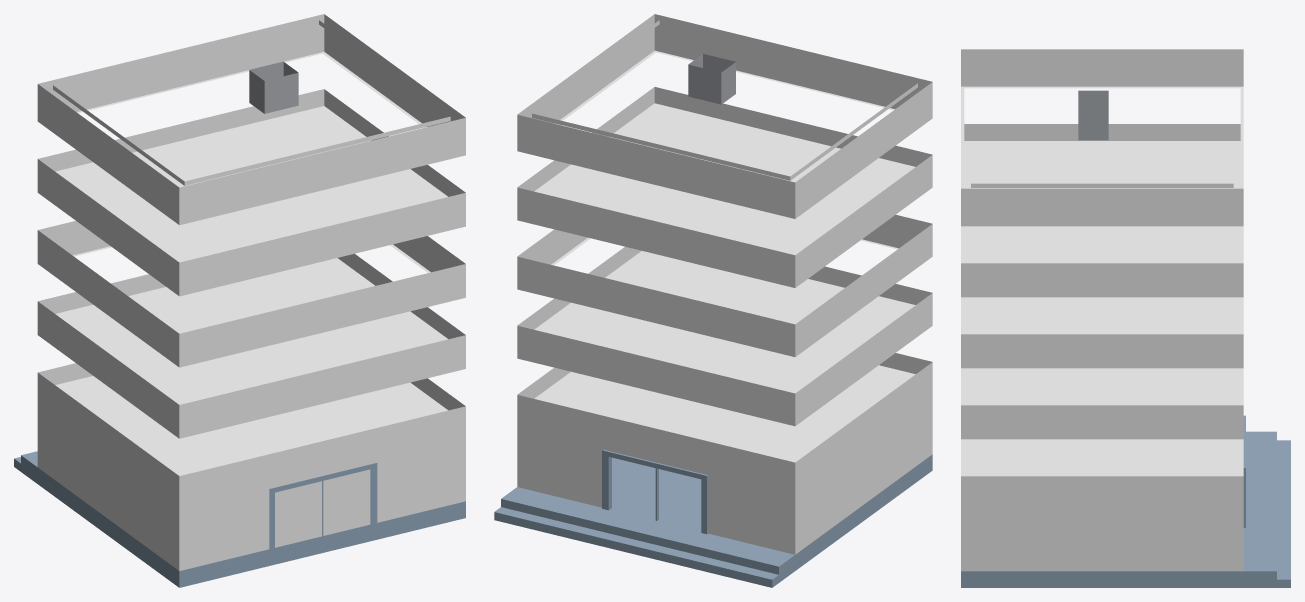
The model's file is Bld_O_high_L4_C.fbx.
3 renders of one model, left to right at view 1: azimuth 30°, elevation 25°; view 2: azimuth 150°, elevation 25°; view 3: azimuth 270°, elevation 25°, orthographic. The views are drawn at different scales.
Visible parts, largest first — view 1: Bld_O_high_L4_C_LOD0; view 2: Bld_O_high_L4_C_LOD0; view 3: Bld_O_high_L4_C_LOD0.
Part boxes in pixels (left/top/right/bottom): Bld_O_high_L4_C_LOD0: left=14, top=14, right=465, bottom=587; Bld_O_high_L4_C_LOD0: left=494, top=14, right=932, bottom=587; Bld_O_high_L4_C_LOD0: left=961, top=49, right=1290, bottom=587.
Size of what is drawn, in the model's own units: 2180 by 3429 by 2180.
1 material, 1 textured.
